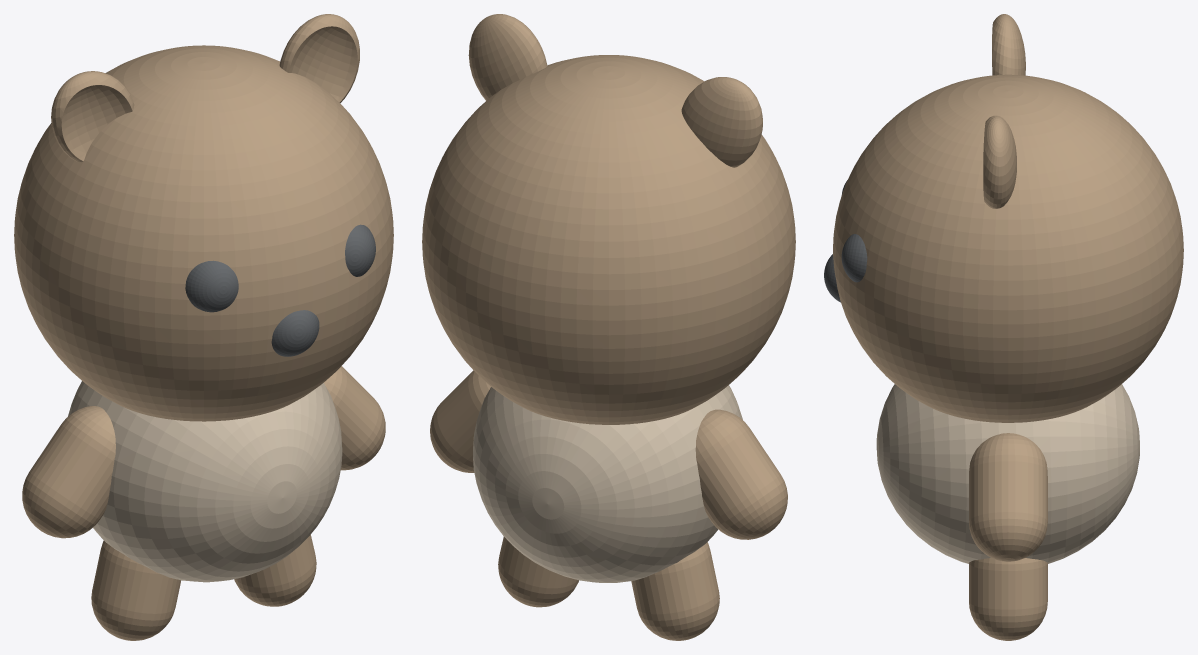
The model's file is oso.glb.
3 renders of one model, left to right at view 1: azimuth 30°, elevation 25°; view 2: azimuth 150°, elevation 25°; view 3: azimuth 270°, elevation 25°, orthographic. The views are drawn at different scales.
Visible parts, largest first — view 1: Mesh_Mesh_head_geo.001_lambert2SG.001; view 2: Mesh_Mesh_head_geo.001_lambert2SG.001; view 3: Mesh_Mesh_head_geo.001_lambert2SG.001.
Boxes of the visible parts, bbox=[...] form: Mesh_Mesh_head_geo.001_lambert2SG.001: bbox=[14, 14, 393, 640]; Mesh_Mesh_head_geo.001_lambert2SG.001: bbox=[422, 14, 795, 640]; Mesh_Mesh_head_geo.001_lambert2SG.001: bbox=[824, 14, 1183, 640].
Size of the model in its own units: 0.0429 by 0.0676 by 0.041.
